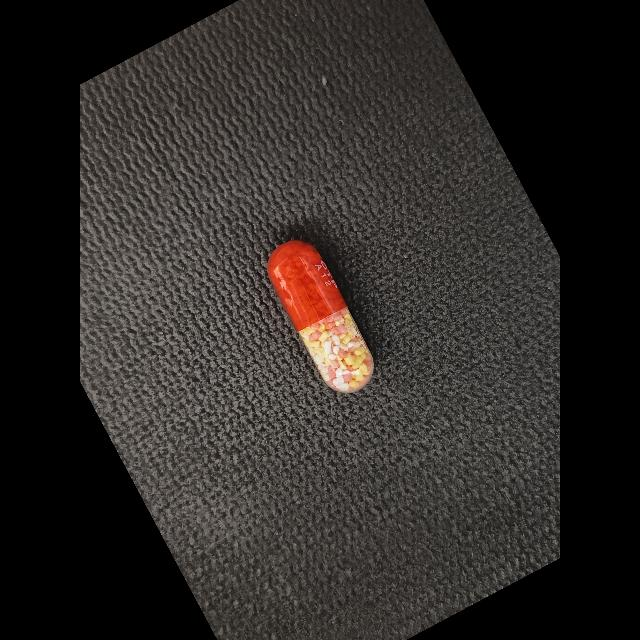Intact Capsule: (267, 240, 374, 393)
